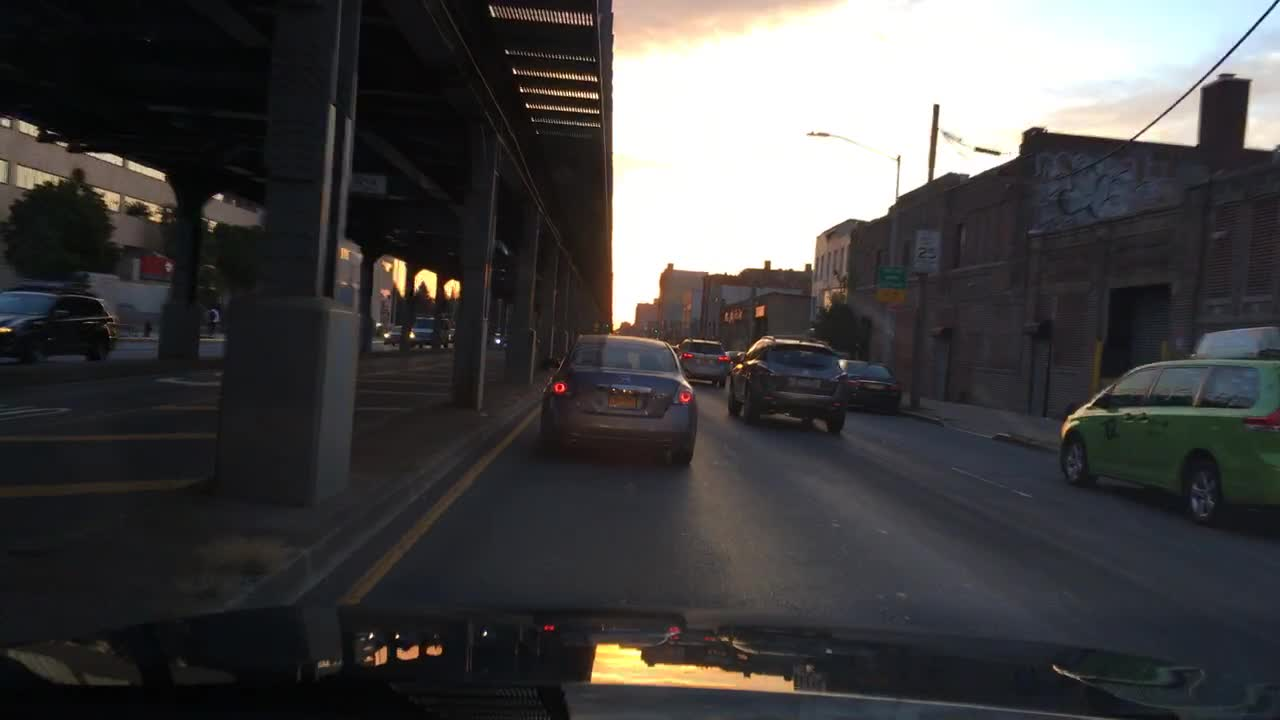car: (1054, 324, 1278, 528), (535, 330, 699, 473), (722, 330, 853, 441), (0, 287, 124, 367), (833, 349, 904, 415), (671, 335, 731, 392), (399, 312, 455, 352), (721, 345, 749, 375), (380, 319, 405, 345), (490, 325, 510, 352), (370, 318, 389, 337)
person: (204, 302, 222, 340)
traffic sign: (909, 227, 942, 276), (874, 262, 914, 290), (874, 290, 907, 309)
